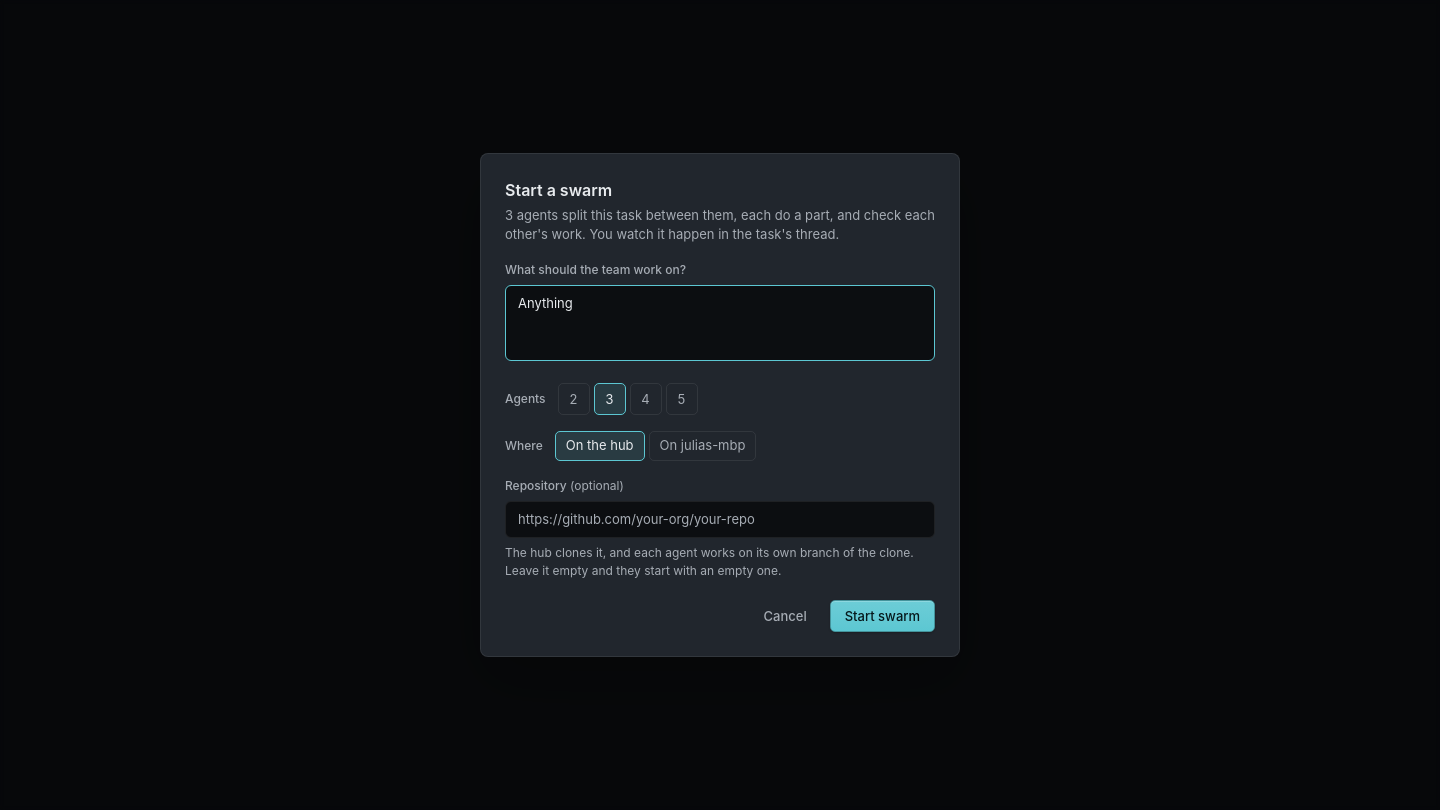
Test case: StartSwarmDialog › can't start on a machine without herdr, and says why
Click the radio button labelled "On julias-mbp". click: (703, 446)
box: [649,431,756,461]
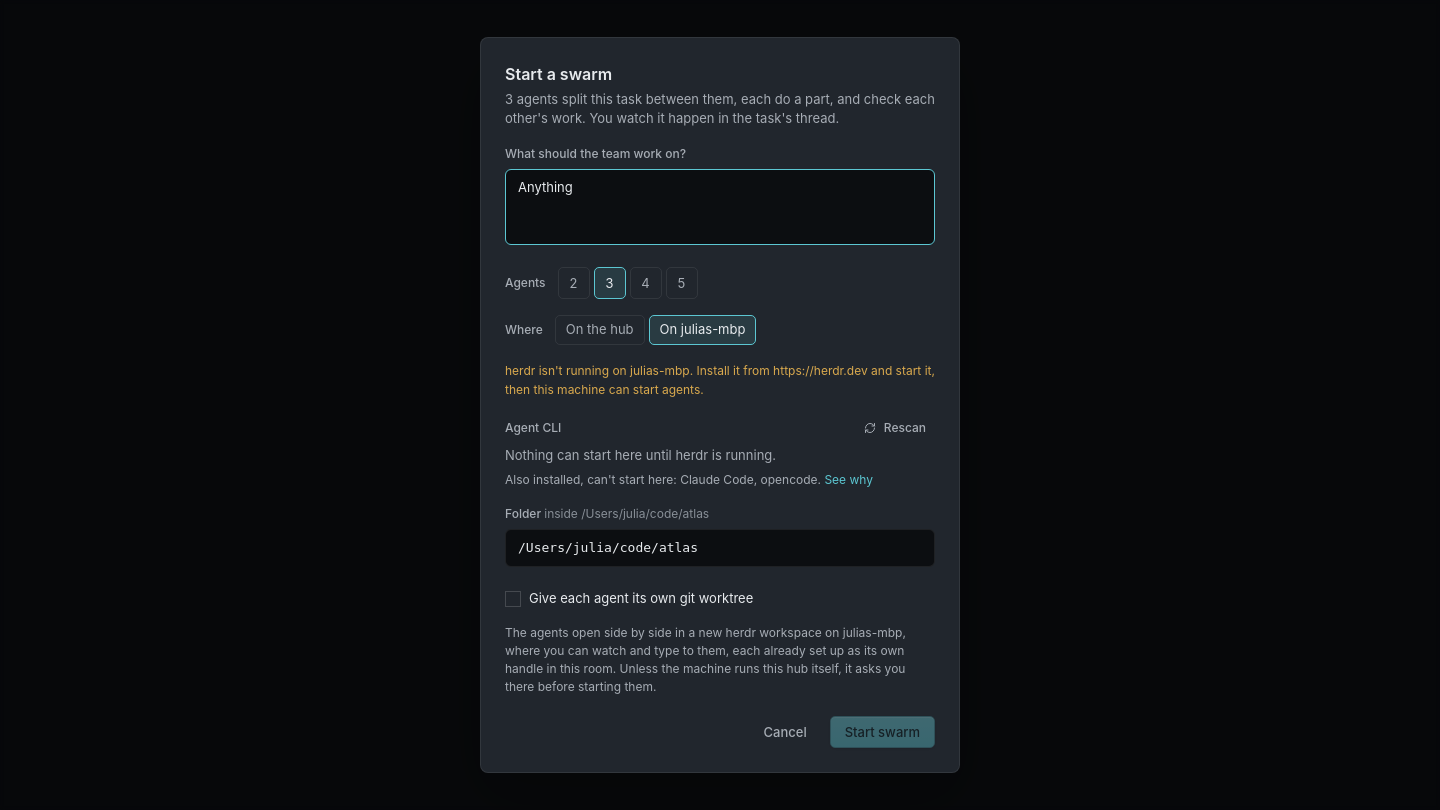
Now the text "herdr isn't running on julias-mbp" is shown, box [505,363,935,397]
Now the button "Start swarm" is disabled, box [830,716,935,748]
